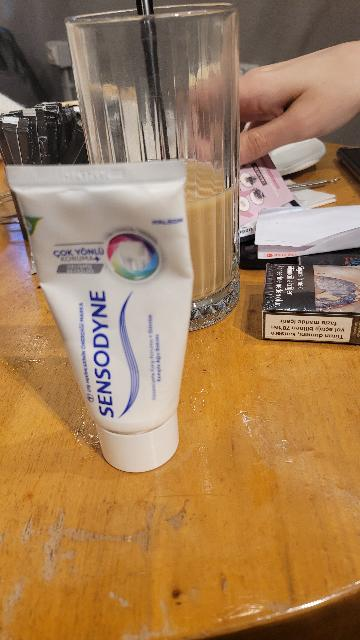Cam: (61, 0, 244, 324)
Kagit: (254, 255, 360, 353)
Plastik: (5, 159, 198, 481)
